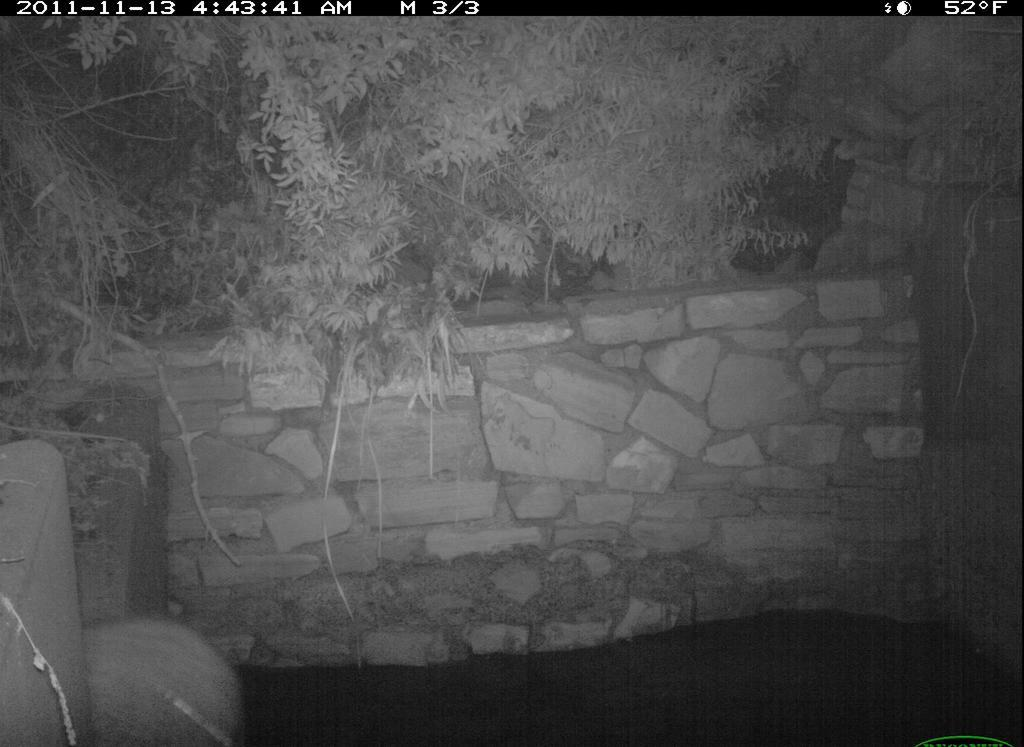raccoon: (79, 594, 248, 747)
